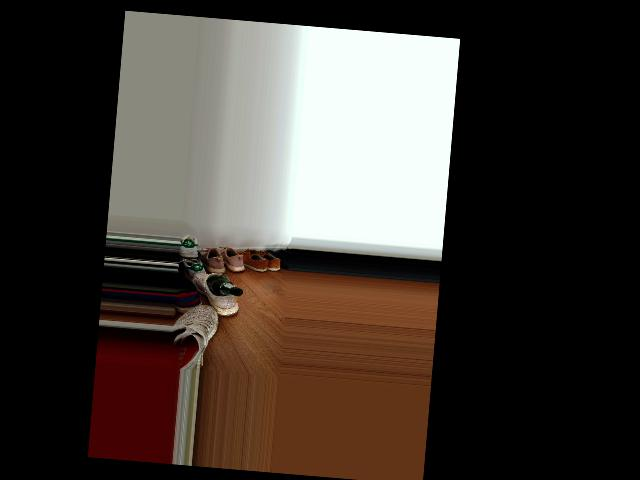beer: (206, 277, 244, 297)
